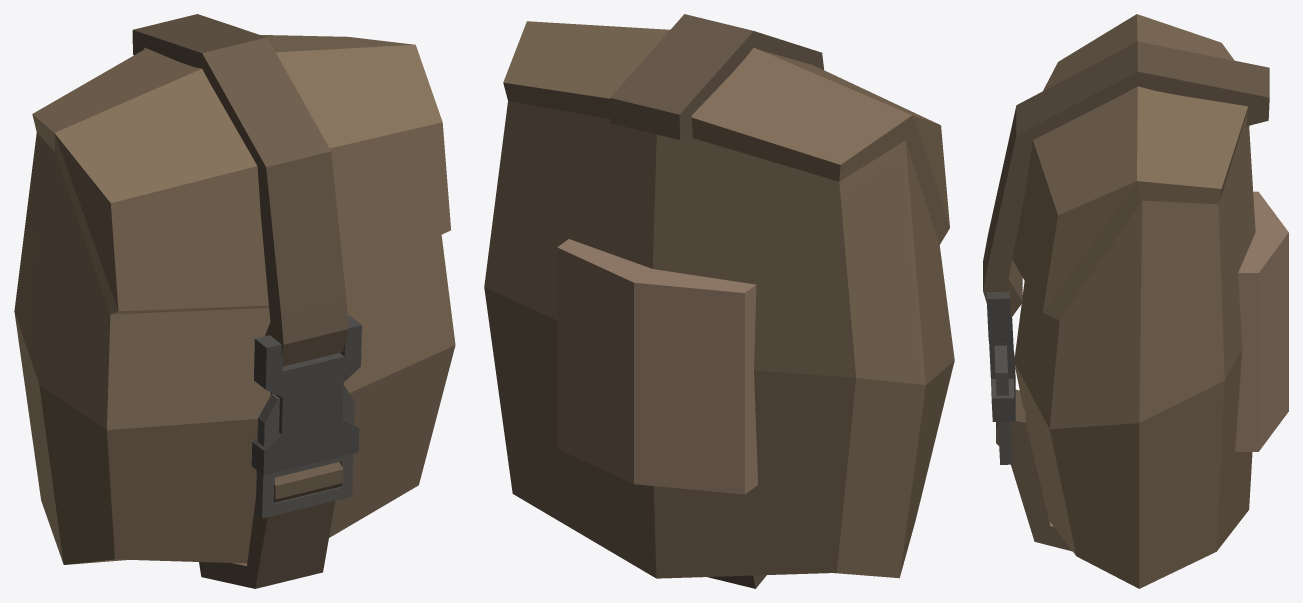
Rendered from Pouch_01_SM.FBX.
3 views of the same model, side by side, from view 1: azimuth 30°, elevation 25°; view 2: azimuth 150°, elevation 25°; view 3: azimuth 270°, elevation 25° (orthographic). The views are drawn at different scales.
Visible parts, largest first — view 1: Pouch_01_SM; view 2: Pouch_01_SM; view 3: Pouch_01_SM.
Part boxes in pixels (<box>): Pouch_01_SM: <box>14,14,455,588</box>; Pouch_01_SM: <box>484,14,954,588</box>; Pouch_01_SM: <box>983,14,1288,588</box>.
Size of what is drawn, in the model's own units: 10.88 by 7.81 by 13.96.
